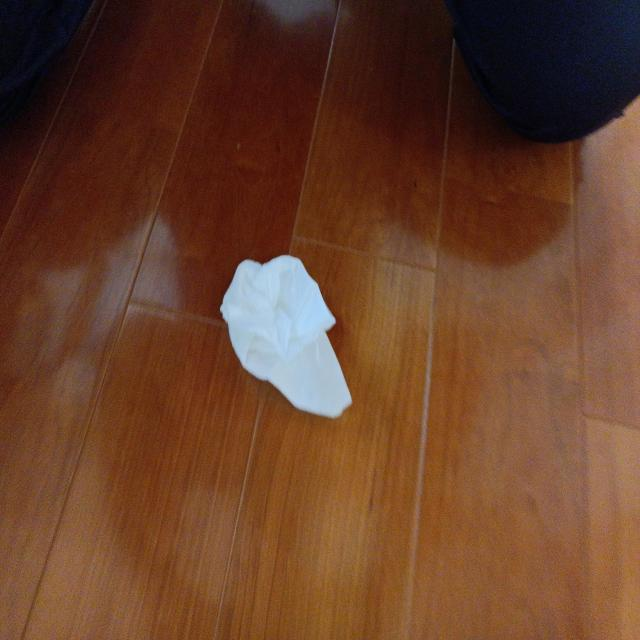Paper: (202, 229, 373, 429)
